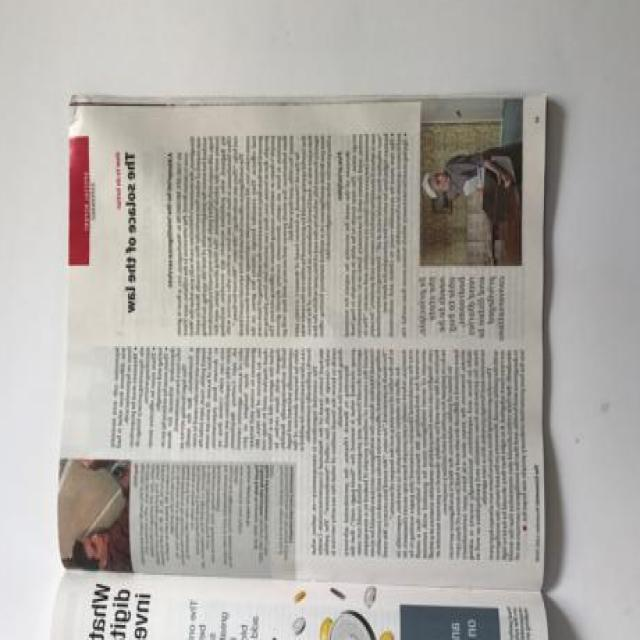kertas: (49, 87, 549, 640)
